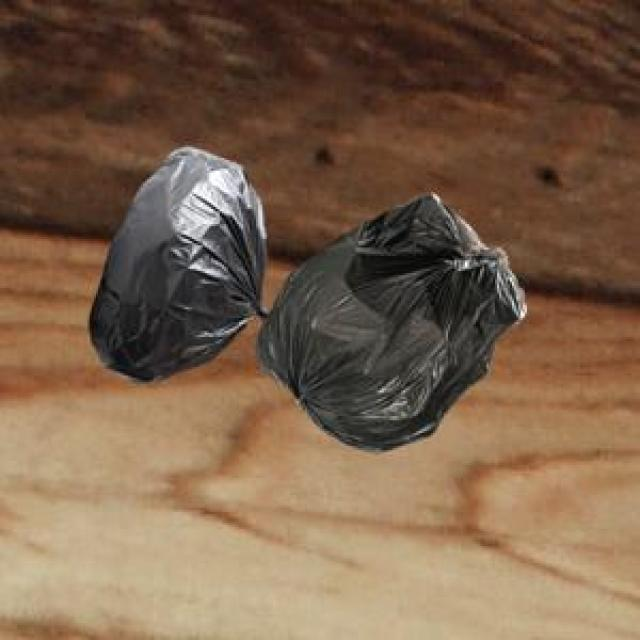waste: (90, 148, 525, 449)
